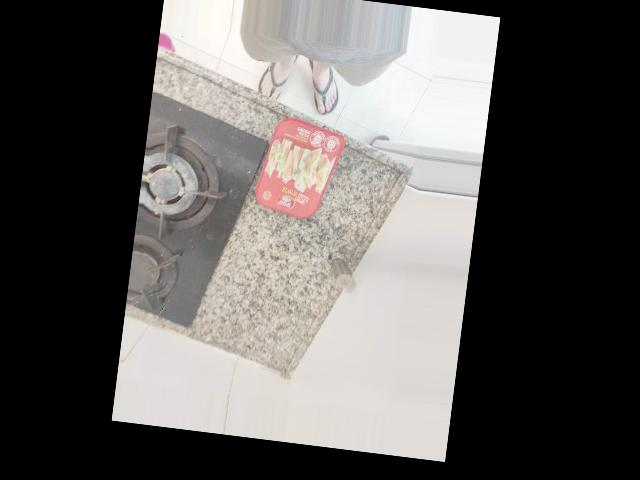cheese: (249, 107, 355, 225)
